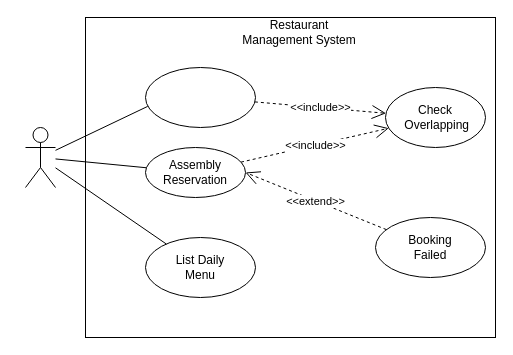
Image size: 513x355. Some labels were removed from this diagram. Each missing label, with the centre of its shape:
"List Available Tables" goes at pixel 200 97.
"Phone Operator" goes at pixel 40 157.
